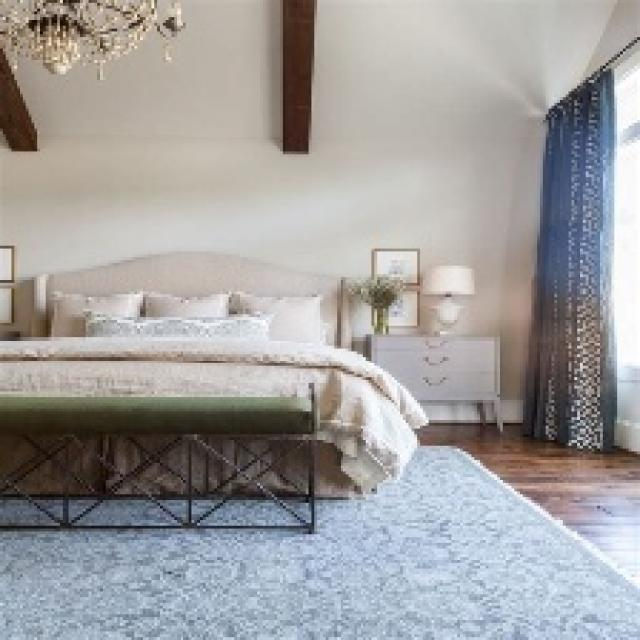Bed: (0, 248, 426, 532)
